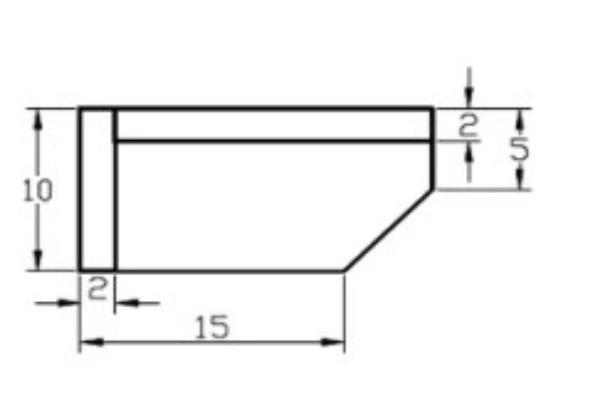dimensions: (193, 309, 235, 342), (19, 172, 57, 206), (501, 134, 541, 165), (83, 274, 116, 306), (454, 108, 484, 142)
